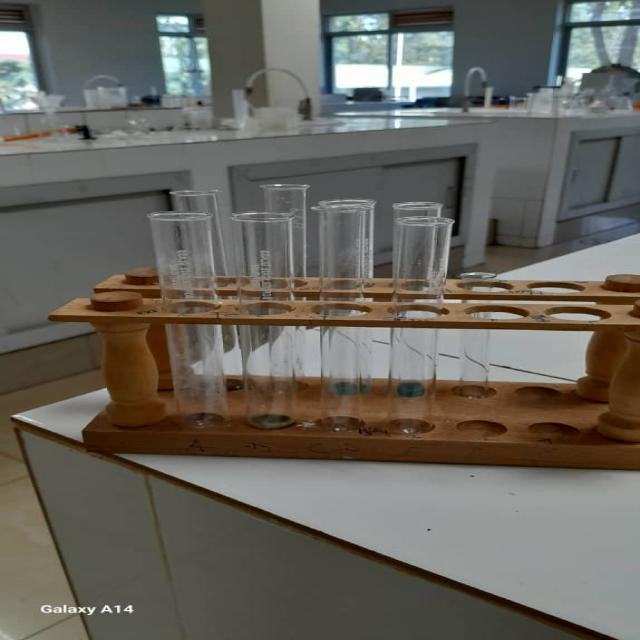Test Tube Racks: (34, 215, 636, 478)
